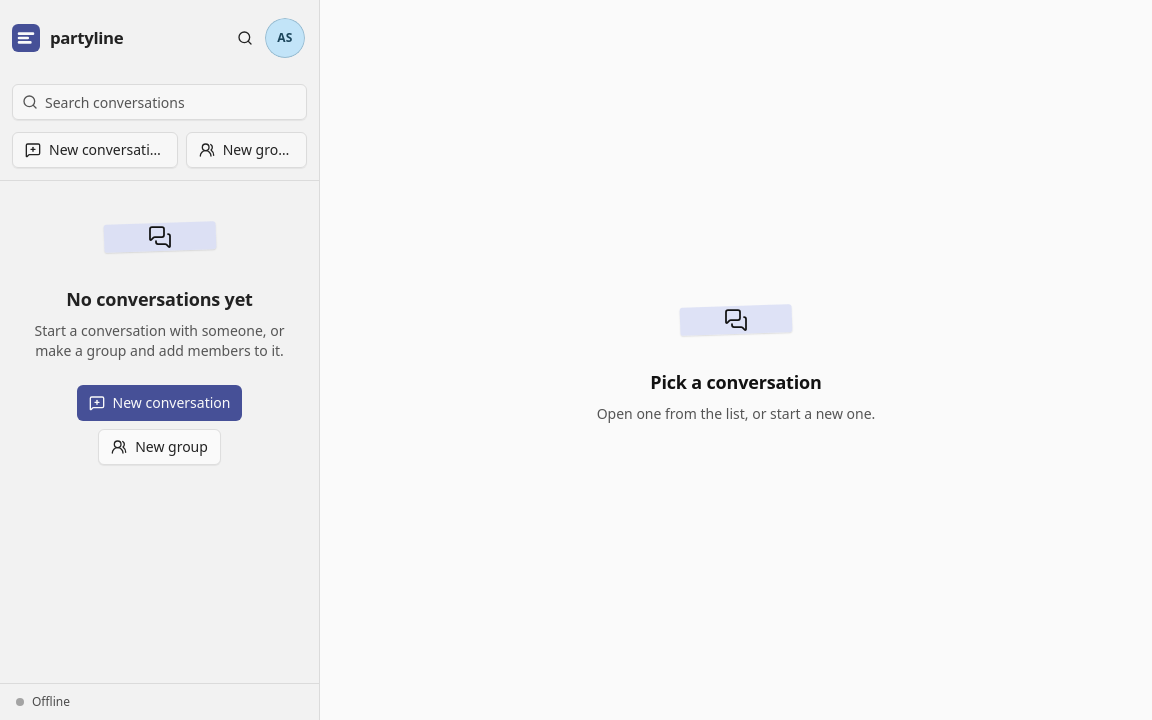
it: empty and failed list › opens the dialog of the action chosen in the empty state
Step 1. Click the button "New group" below "No conversations yet" → (160, 447), box [98,429,221,465]
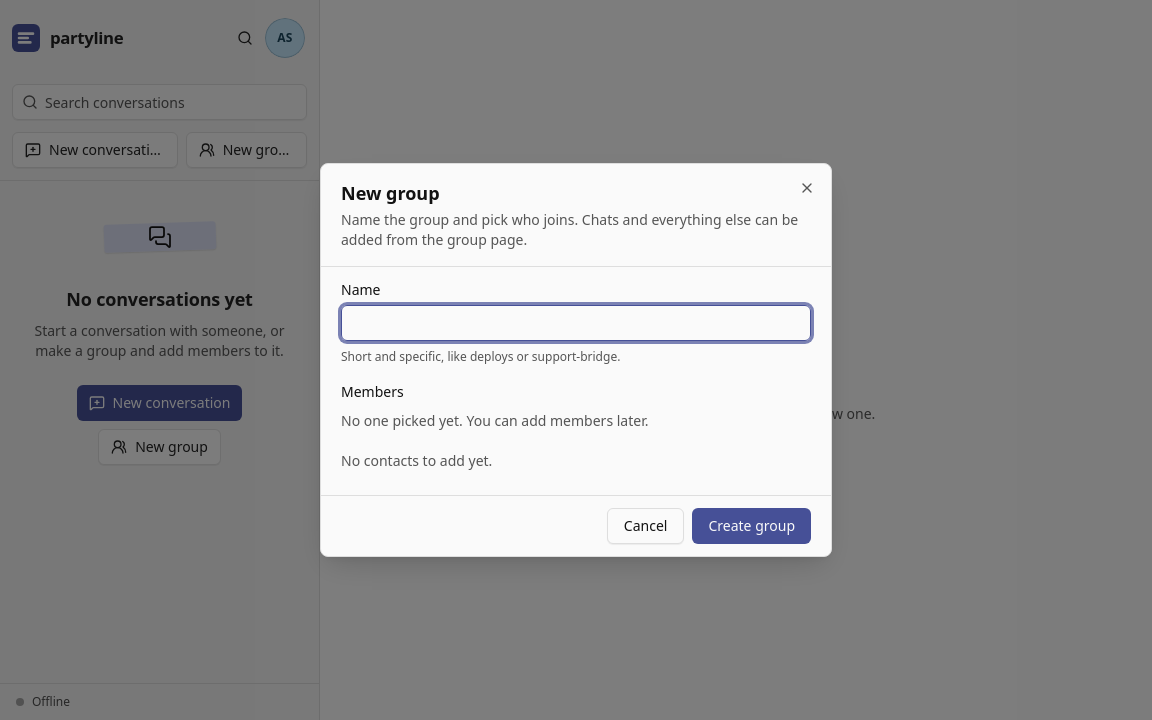
Now the dialog "New group" is shown, box [320,163,832,557]
